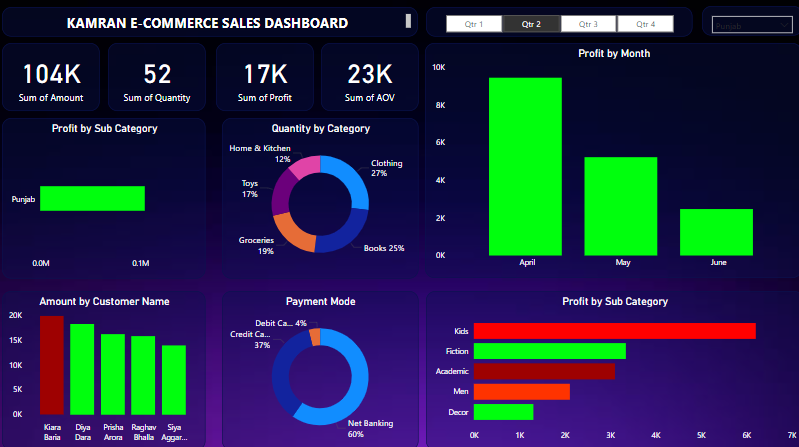

Layout of this report page (visuals, bound fields, positions):
{"tool":"powerbi","page":{"name":"Page 1","canvas":[1280,720],"ordinal":0},"visuals":[{"type":"columnChart","title":" Profit by Month","fields":{"Category":["Shopkeeper_details.Order Date.Variation.Date Hierarchy.Month"],"Y":["Sum(Order_details.Profit)"]},"box":[682,73.2,598.5,373.2],"z":0},{"type":"barChart","title":"Profit by Sub Category","fields":{"Category":["Order_details.Sub Category"],"Y":["Sum(Order_details.Profit)"]},"box":[682,466.8,598.5,253.2],"z":1000},{"type":"donutChart","title":"Payment Mode","fields":{"Category":["Order_details.Payment Mode"],"Y":["Sum(Order_details.Quantity)"]},"box":[358.5,466.8,311.7,253.2],"z":2000},{"type":"donutChart","title":"Quantity by Category","fields":{"Category":["Order_details.Category"],"Y":["Sum(Order_details.Quantity)"]},"box":[358.5,191.7,311.7,254.6],"z":3000},{"type":"card","fields":{"Values":["Sum(Order_details.Amount)"]},"box":[10.2,73.2,155.1,108.3],"z":4000},{"type":"card","fields":{"Values":["Sum(Order_details.Quantity)"]},"box":[178.5,73.2,155,108.3],"z":5000},{"type":"card","fields":{"Values":["Sum(Order_details.Profit)"]},"box":[349.8,73.2,155.1,108.3],"z":6000},{"type":"card","fields":{"Values":["Sum(Order_details.AOV)"]},"box":[515.1,73.2,155.1,108.3],"z":7000},{"type":"barChart","title":"Profit by Sub Category","fields":{"Category":["Shopkeeper_details.State"],"Y":["Sum(Order_details.Amount)"]},"box":[10.2,191.7,323.4,254.6],"z":8000},{"type":"columnChart","title":"Amount by Customer Name","fields":{"Category":["Shopkeeper_details.Customer Name"],"Y":["Sum(Order_details.Amount)"]},"box":[10,467,323,253],"z":9000},{"type":"textbox","box":[10.1,15.1,660.2,47],"z":10000},{"type":"slicer","fields":{"Values":["Shopkeeper_details.Order Date.Variation.Date Hierarchy.Quarter"]},"box":[682,15.1,423.3,47],"z":10001},{"type":"slicer","fields":{"Values":["Shopkeeper_details.State"]},"box":[1121,14.6,159.5,46.8],"z":10002}]}

Visuals, with their boxes in screenshot pixels (x1, y1, x2, y2), scaled from the page's 1280x720 canvas onto the 799x447 screenshot:
" Profit by Month" columnChart: x1=426, y1=45, x2=798, y2=277
"Profit by Sub Category" barChart: x1=426, y1=290, x2=798, y2=446
"Payment Mode" donutChart: x1=224, y1=290, x2=418, y2=446
"Quantity by Category" donutChart: x1=224, y1=119, x2=418, y2=277
card - Sum(Order_details.Amount): x1=6, y1=45, x2=103, y2=113
card - Sum(Order_details.Quantity): x1=111, y1=45, x2=208, y2=113
card - Sum(Order_details.Profit): x1=218, y1=45, x2=315, y2=113
card - Sum(Order_details.AOV): x1=322, y1=45, x2=418, y2=113
"Profit by Sub Category" barChart: x1=6, y1=119, x2=208, y2=277
"Amount by Customer Name" columnChart: x1=6, y1=290, x2=208, y2=446
textbox: x1=6, y1=9, x2=418, y2=39
slicer - Shopkeeper_details.Order Date.Variation.Date Hierarchy.Quarter: x1=426, y1=9, x2=690, y2=39
slicer - Shopkeeper_details.State: x1=700, y1=9, x2=798, y2=38
